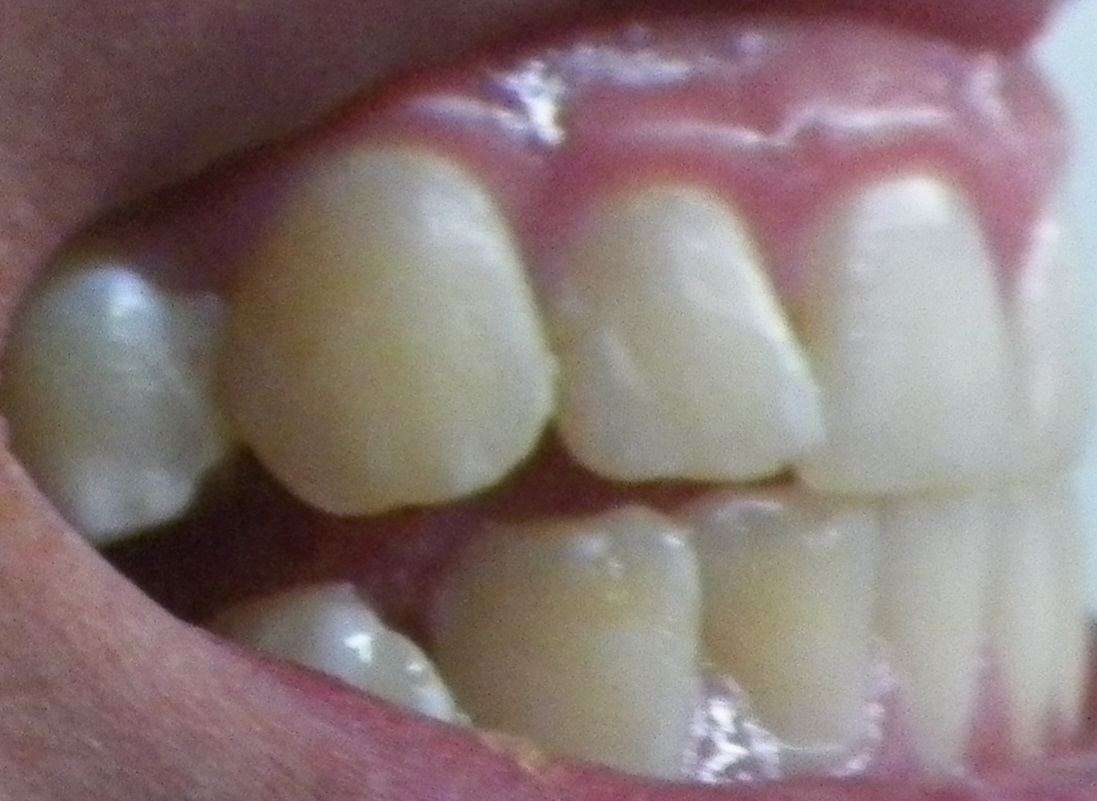boca: (18, 161, 1090, 759)
